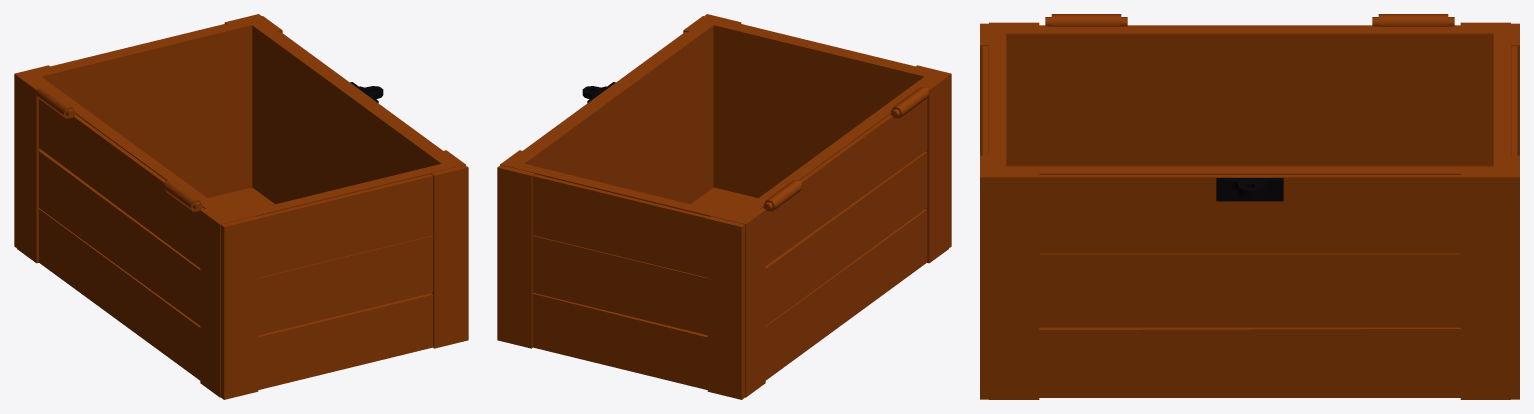
The model's file is WoodChest_Bottom2.fbx.
3 views of the same model, side by side, from view 1: azimuth 30°, elevation 25°; view 2: azimuth 150°, elevation 25°; view 3: azimuth 270°, elevation 25° (orthographic). The views are drawn at different scales.
Visible parts, largest first — view 1: SM_WoodChest_Bottom_LOD0; view 2: SM_WoodChest_Bottom_LOD0; view 3: SM_WoodChest_Bottom_LOD0.
Part boxes in pixels (x1,y1,x2,y2): SM_WoodChest_Bottom_LOD0: (14, 14, 468, 399); SM_WoodChest_Bottom_LOD0: (497, 14, 951, 399); SM_WoodChest_Bottom_LOD0: (980, 14, 1519, 399).
Bounding box in the file's own units: 18.01 × 11.5 × 24.43.
